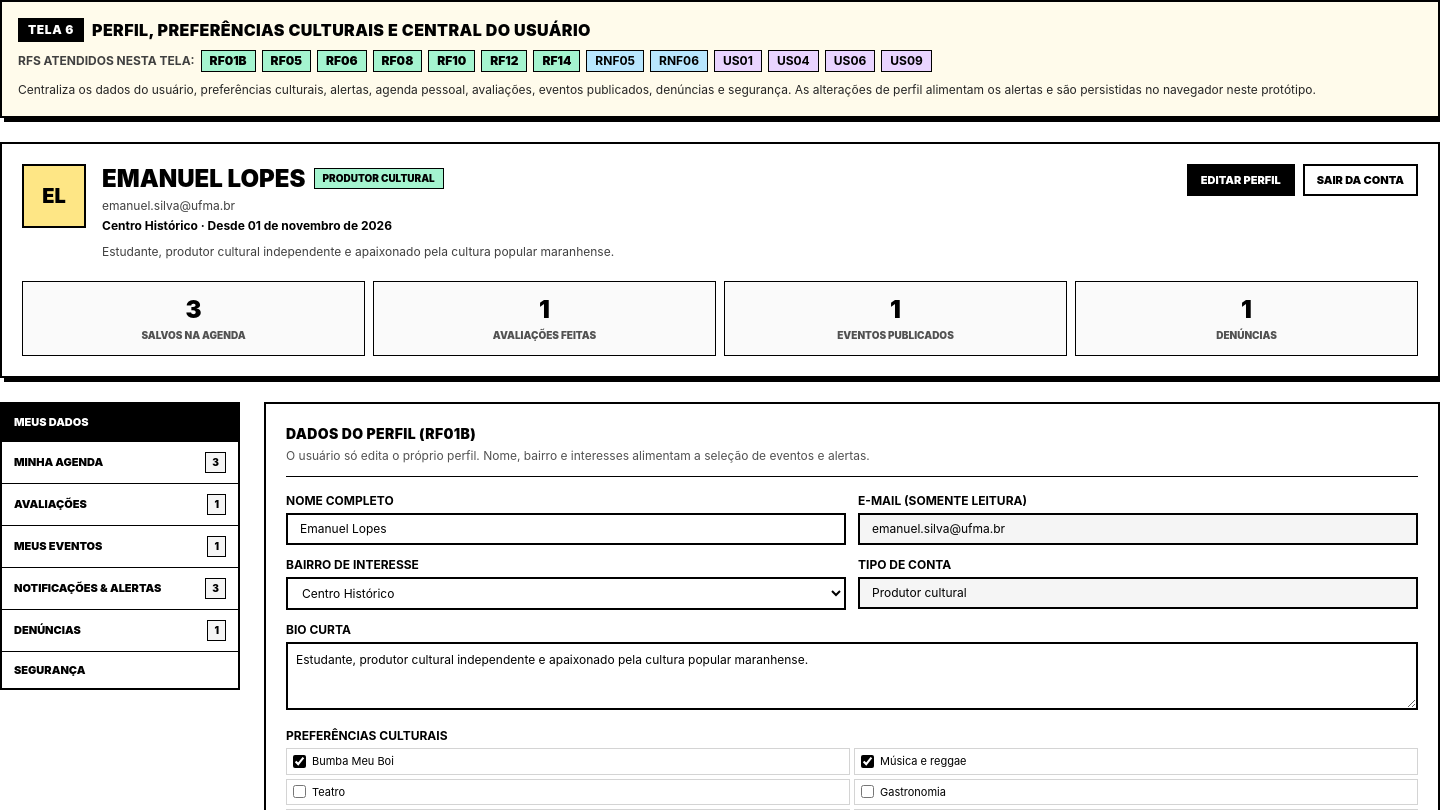
Test case: ProfilePage › lista as avaliações feitas pelo usuário
Click the tab "Avaliações 1": (120, 504) [2,484,238,526]
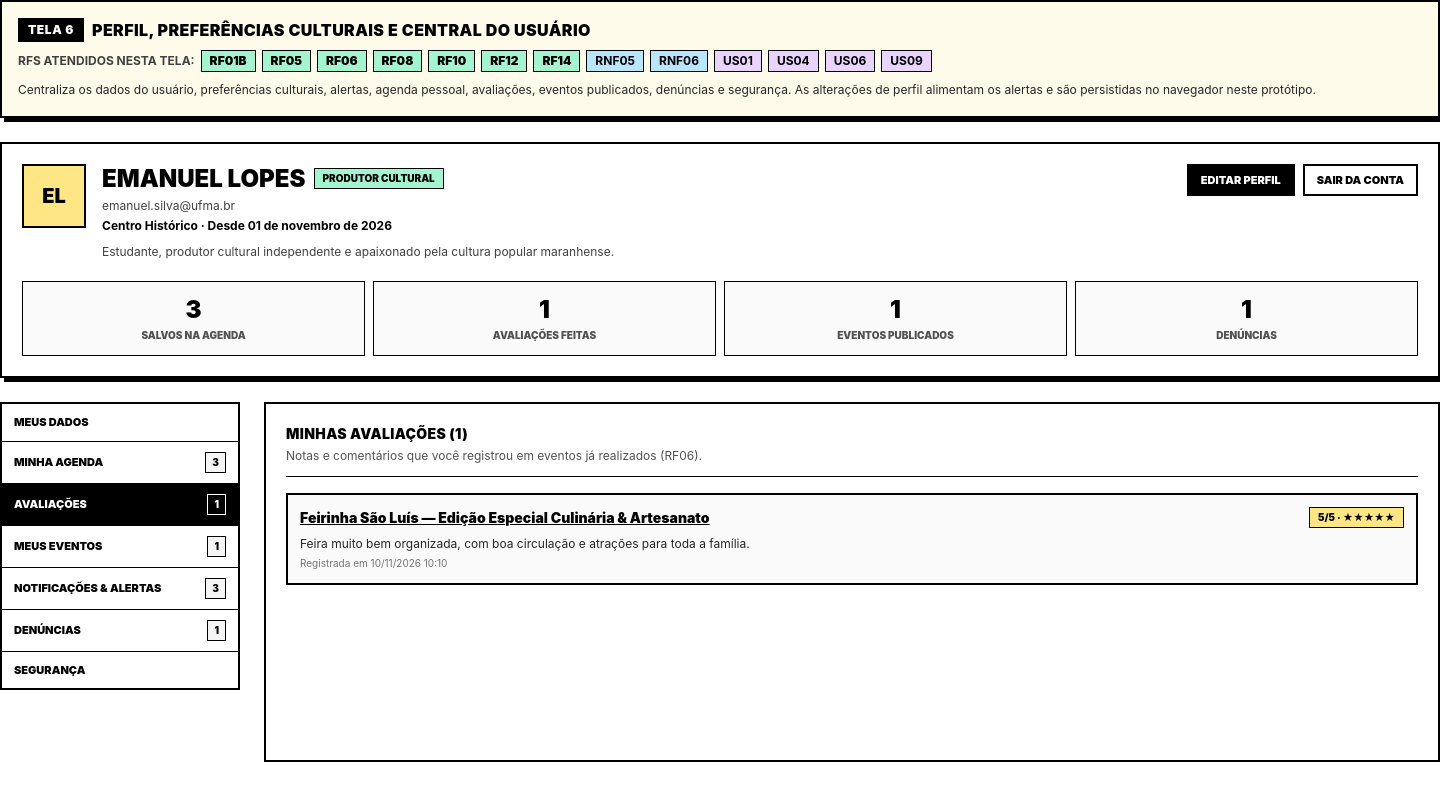
expect the link "Feirinha São Luís — Edição Especial Culinária & Artesanato" is shown: met, box [300,508,710,528]
expect the text "Feira muito bem organizada, com boa circulação e atrações para toda a família." is shown: met, box [300,536,750,551]
